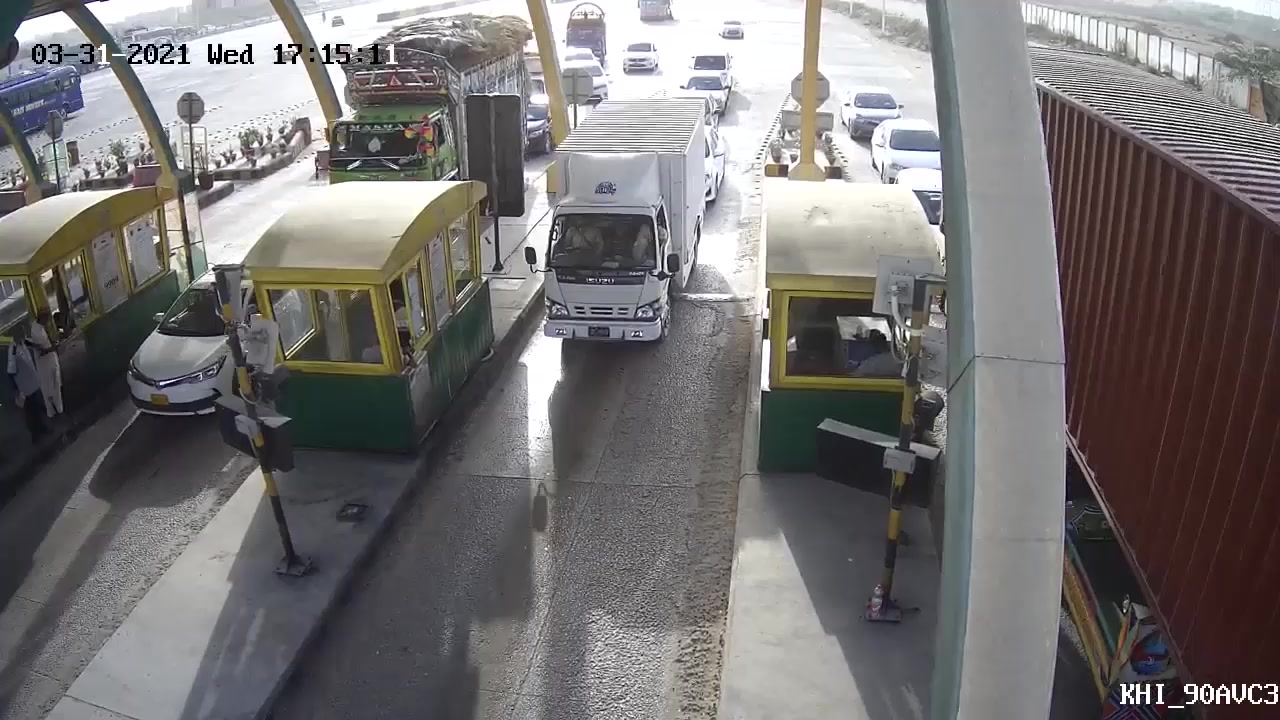F5: (524, 90, 717, 357)
